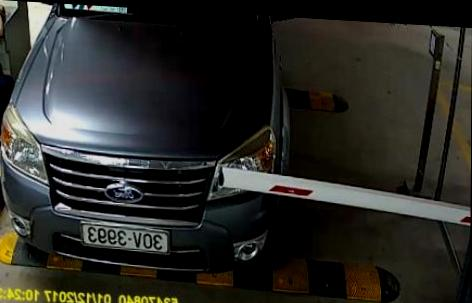License_Plate: (78, 222, 171, 253)
